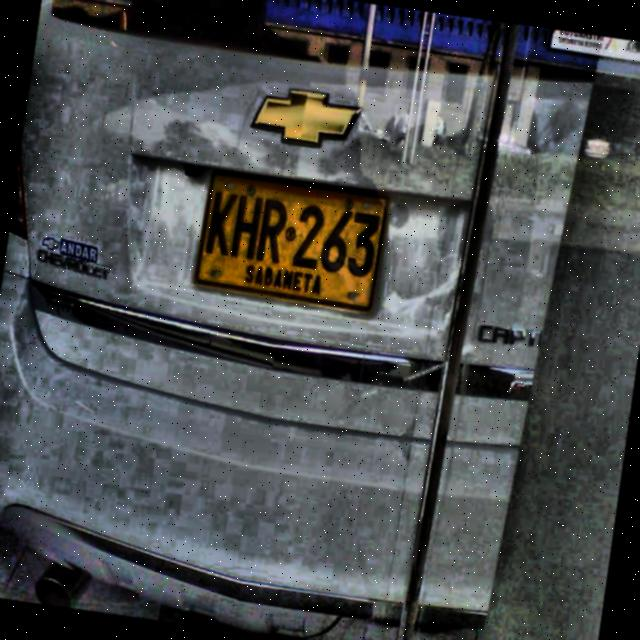plate: (196, 174, 387, 311)
